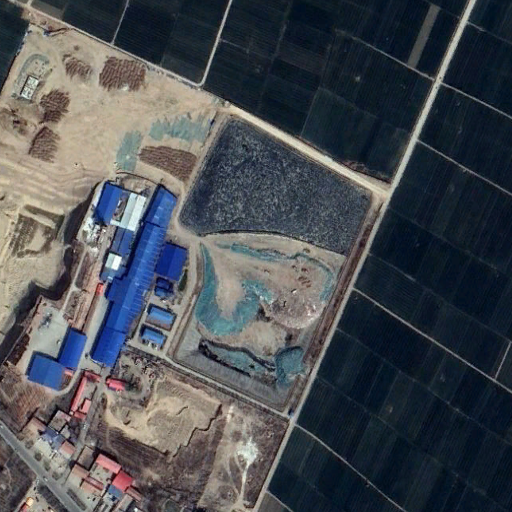lf: (169, 121, 372, 411)
